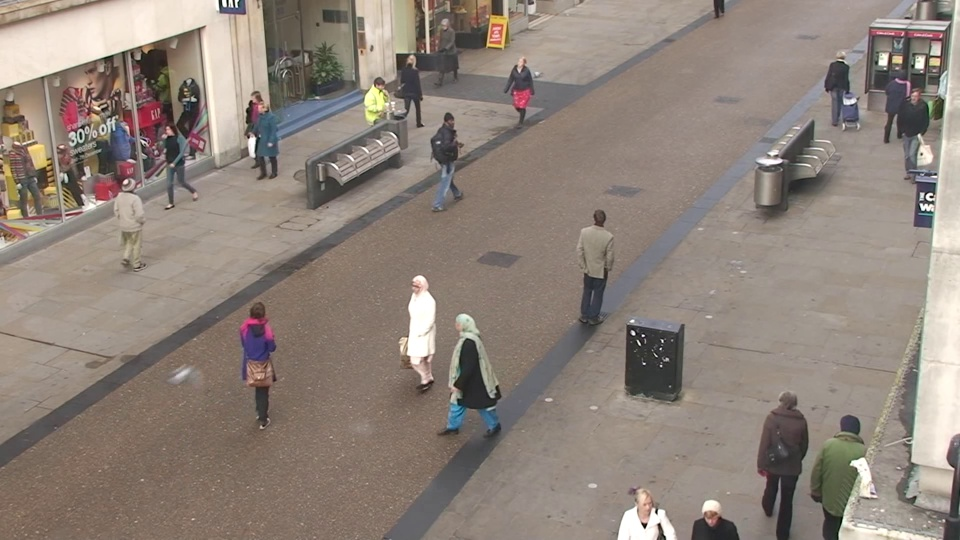pedestrian: (754, 378, 814, 540), (814, 402, 878, 540), (236, 292, 290, 433), (440, 306, 488, 451), (400, 267, 447, 403), (110, 173, 157, 281), (580, 204, 618, 325), (612, 474, 674, 540), (892, 84, 935, 176), (156, 119, 196, 213), (677, 483, 741, 540), (876, 69, 916, 156), (434, 110, 466, 204), (248, 96, 282, 184), (241, 88, 275, 174), (822, 48, 856, 128), (366, 76, 397, 160), (397, 52, 425, 129), (509, 53, 536, 132), (433, 18, 458, 86)
